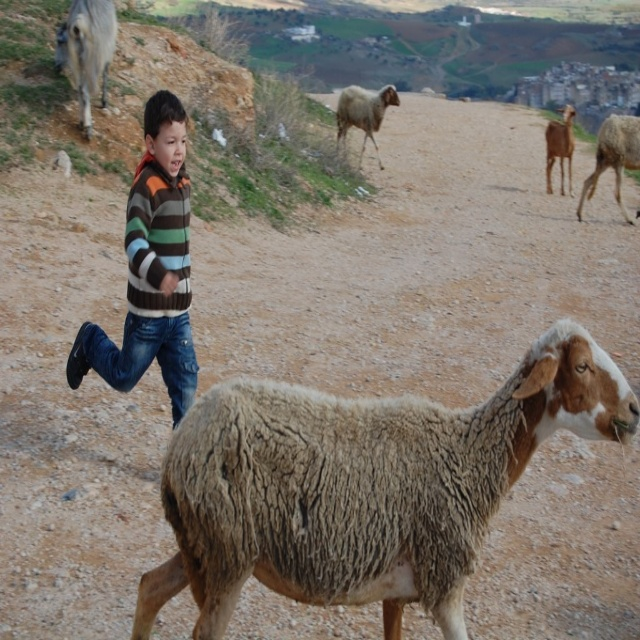Sheep: (51, 0, 119, 143)
